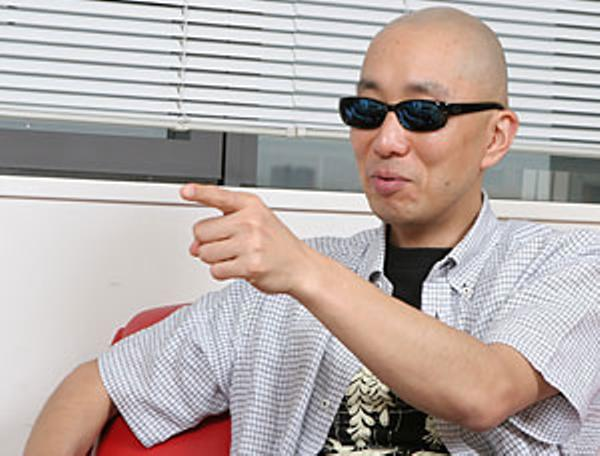face: (337, 4, 520, 227)
hand: (180, 182, 307, 296)
